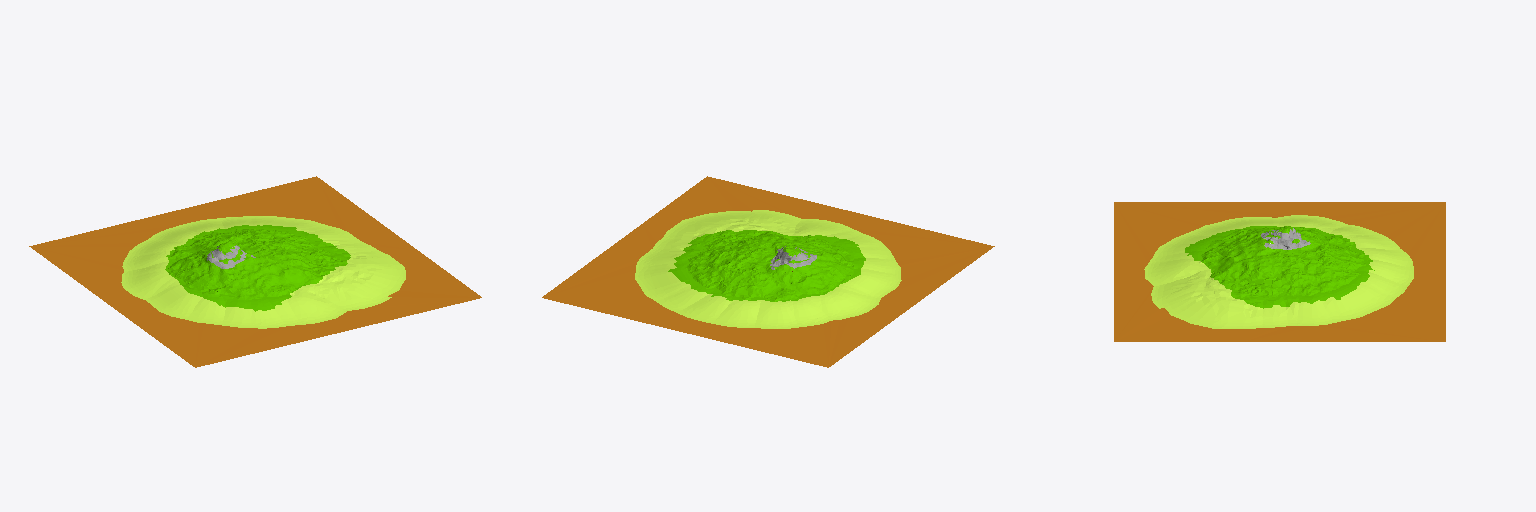
Rendered from mapa.obj.
The picture shows the model from 3 angles: view 1: azimuth 30°, elevation 25°; view 2: azimuth 150°, elevation 25°; view 3: azimuth 270°, elevation 25°; orthographic projection.
Visible parts, largest first — view 1: Landscape; view 2: Landscape; view 3: Landscape.
Part boxes in pixels (x1,y1,x2,y2): Landscape: (29, 176, 481, 367); Landscape: (542, 176, 994, 367); Landscape: (1114, 202, 1445, 341).
Size of the model in its own units: 6 by 0.6425 by 6.